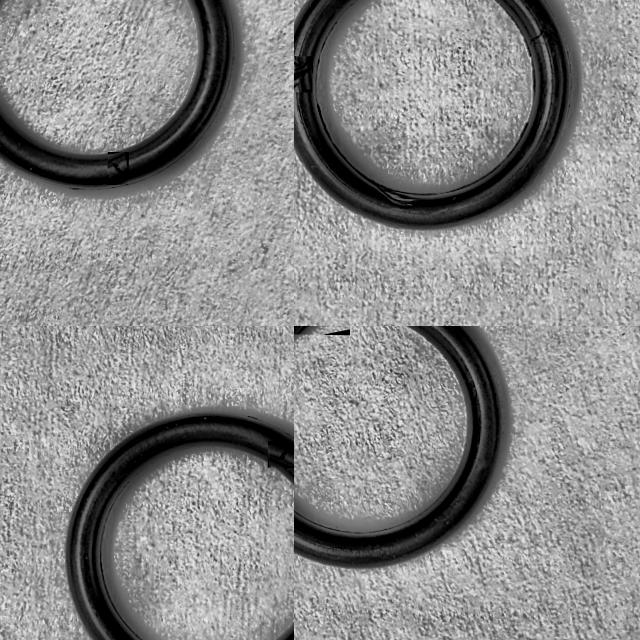切割缺陷: (365, 181, 420, 207), (107, 152, 128, 184), (269, 441, 294, 467), (294, 59, 312, 91), (527, 28, 553, 47)
裂纹: (317, 102, 528, 195), (500, 4, 531, 56), (530, 56, 535, 100)
